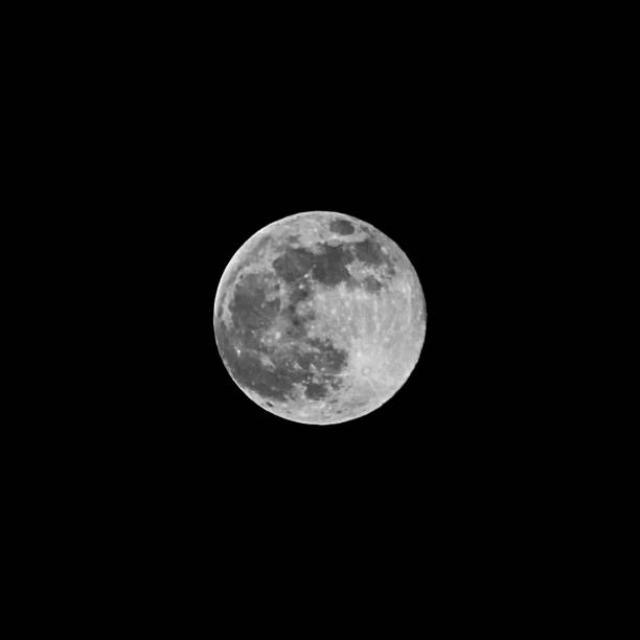moon: (212, 215, 420, 422)
